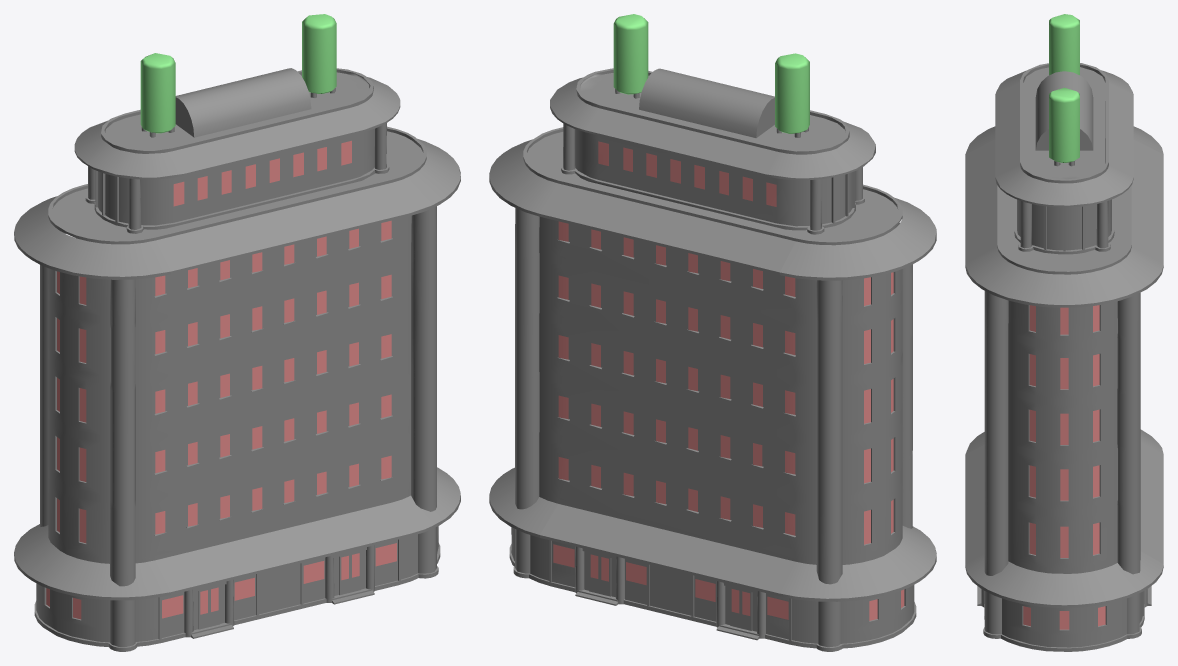
The model's file is SM_ENV_LKNVLD03_CommonBuilding_C.gltf.
3 renders of one model, left to right at view 1: azimuth 30°, elevation 25°; view 2: azimuth 150°, elevation 25°; view 3: azimuth 270°, elevation 25°, orthographic. The views are drawn at different scales.
Parts seen in each view (by area): view 1: SM_ENV_LKNVLD03_CommonBuilding_C; view 2: SM_ENV_LKNVLD03_CommonBuilding_C; view 3: SM_ENV_LKNVLD03_CommonBuilding_C.
Boxes of the visible parts, bbox=[...] form: SM_ENV_LKNVLD03_CommonBuilding_C: bbox=[14, 14, 460, 651]; SM_ENV_LKNVLD03_CommonBuilding_C: bbox=[489, 14, 936, 651]; SM_ENV_LKNVLD03_CommonBuilding_C: bbox=[965, 14, 1163, 651].
Bounding box in the file's own units: 44.2 × 54.81 × 19.39.
